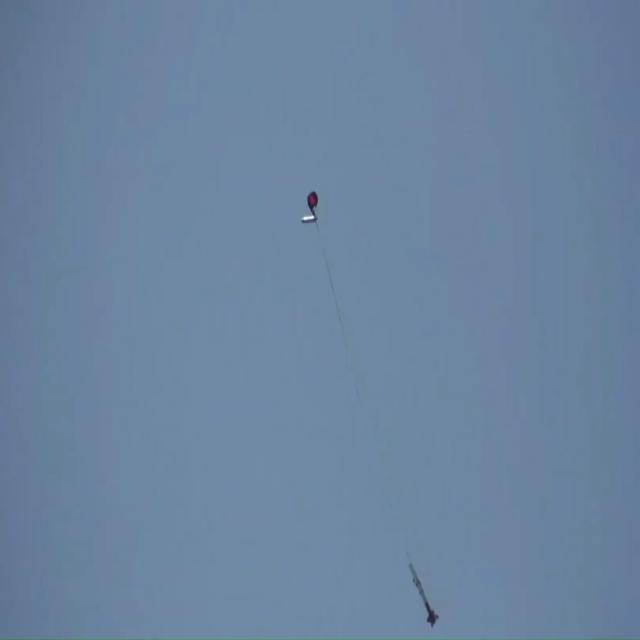Rocket: (408, 561, 440, 628)
